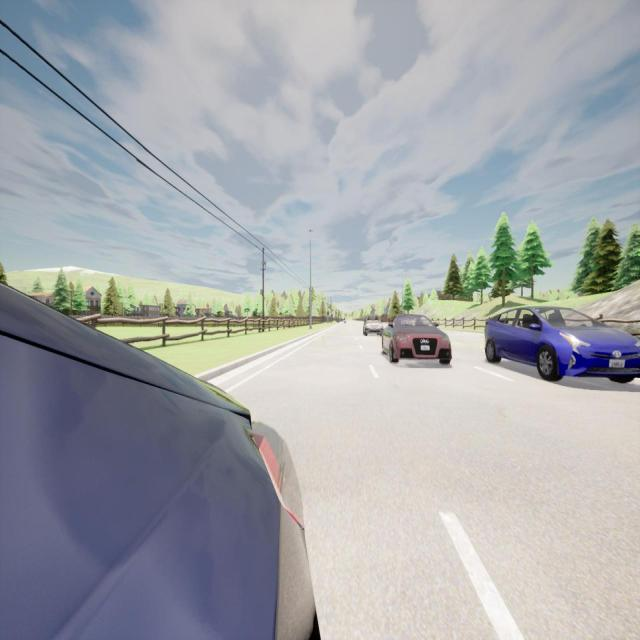Vehicle: (1, 278, 331, 636), (482, 301, 640, 381), (383, 313, 452, 367), (362, 316, 383, 338), (342, 319, 348, 326)
